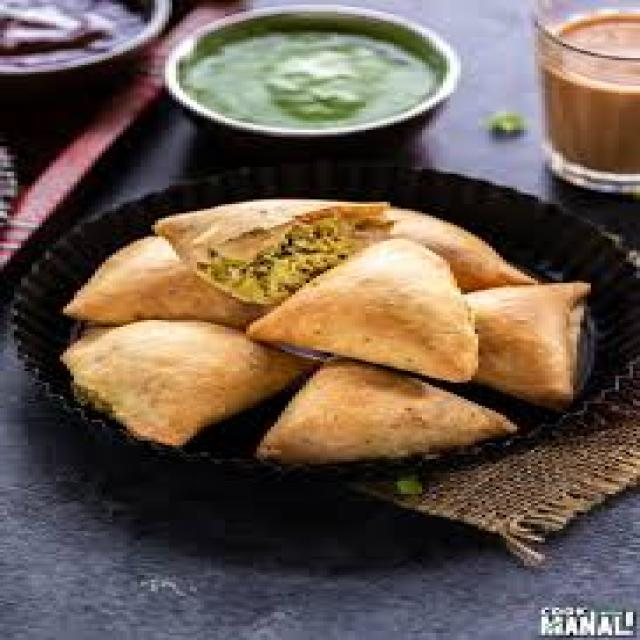SAMOSA: (63, 320, 306, 445), (250, 241, 468, 378), (155, 199, 394, 306), (260, 362, 513, 461), (63, 237, 253, 325), (468, 285, 587, 403)
